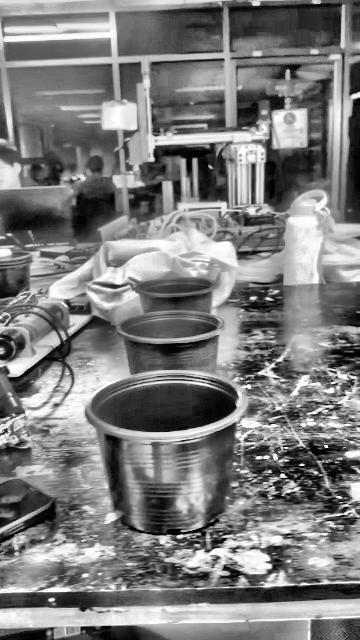pot: (86, 371, 242, 534), (119, 311, 223, 374), (135, 277, 215, 313), (0, 255, 35, 298)
